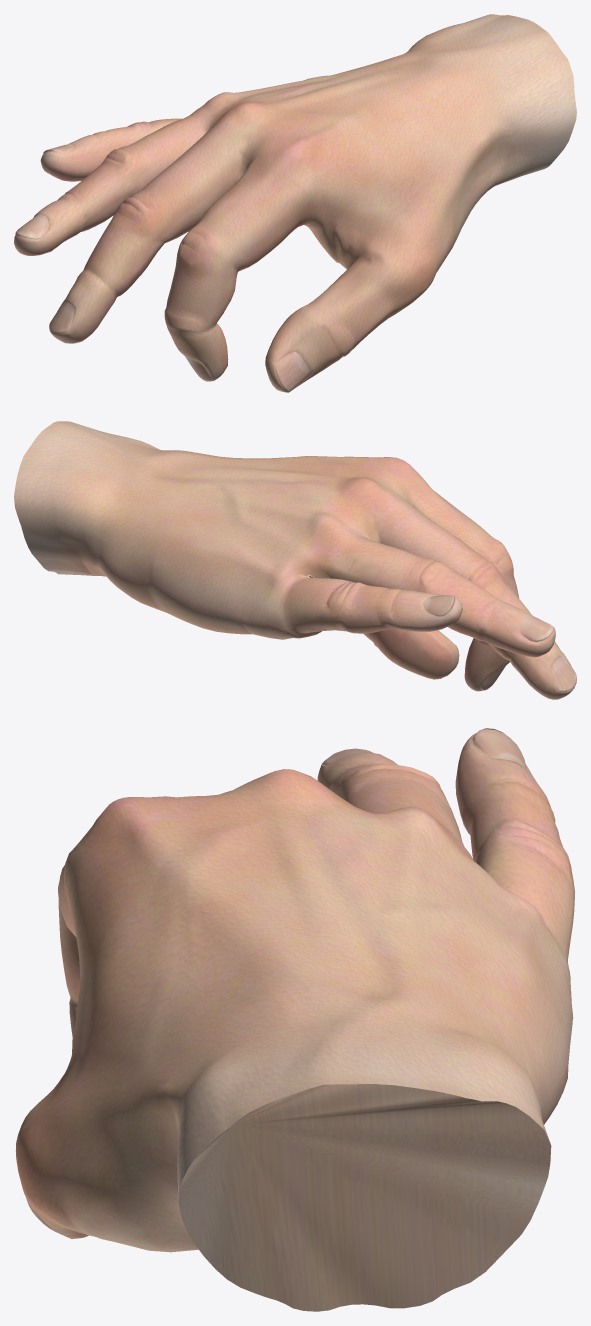
Rendered from hand_09.obj.
3 views of the same model, one above another, from view 1: azimuth 30°, elevation 25°; view 2: azimuth 150°, elevation 25°; view 3: azimuth 270°, elevation 25° (orthographic). The views are drawn at different scales.
Parts seen in each view (by area): view 1: Figure_2; view 2: Figure_2; view 3: Figure_2.
Boxes of the visible parts, bbox=[...] form: Figure_2: bbox=[14, 14, 576, 392]; Figure_2: bbox=[14, 421, 576, 699]; Figure_2: bbox=[15, 728, 575, 1311].
Bounding box in the file's own units: 0.8542 × 0.3749 × 0.4059.
2 materials, 2 textured.
